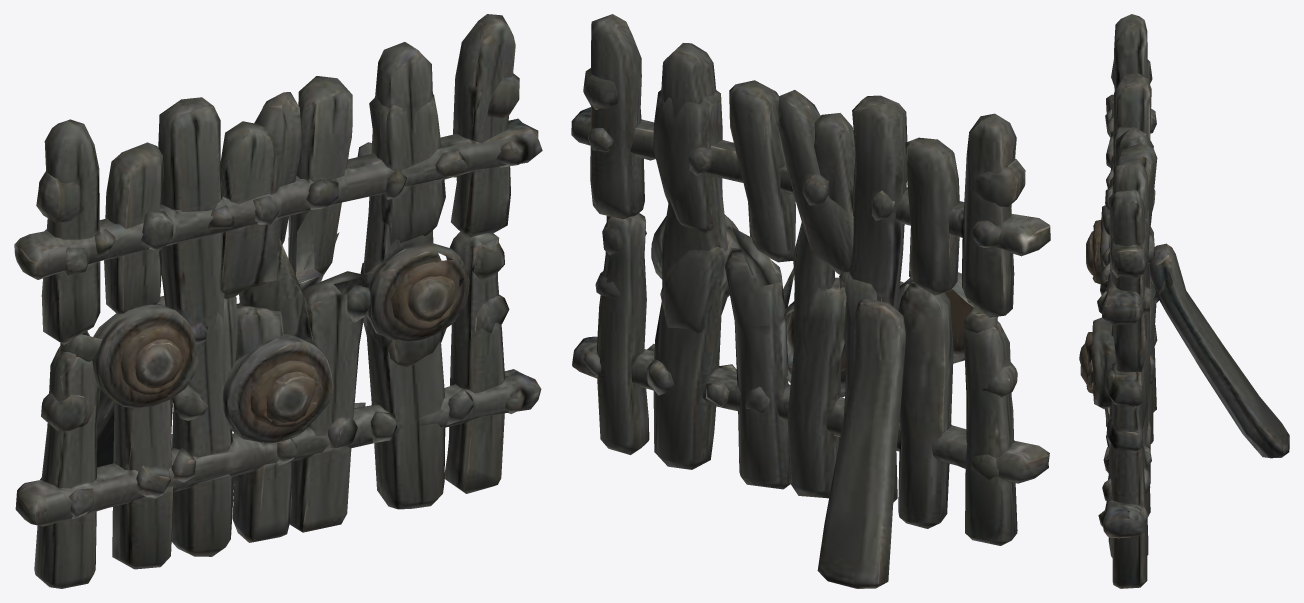
File: pv_palicada.glb
3 renders of one model, left to right at view 1: azimuth 30°, elevation 25°; view 2: azimuth 150°, elevation 25°; view 3: azimuth 270°, elevation 25°, orthographic. The views are drawn at different scales.
Parts seen in each view (by area): view 1: Mesh_0.013; view 2: Mesh_0.013; view 3: Mesh_0.013.
Boxes of the visible parts, box(x1,y1,x2,y2) form: Mesh_0.013: box(14, 14, 542, 588); Mesh_0.013: box(571, 14, 1050, 588); Mesh_0.013: box(1079, 14, 1289, 588).
Size of the model in its own units: 0.335 by 0.2949 by 0.1389.
Materials: 1 (1 with a texture image).
